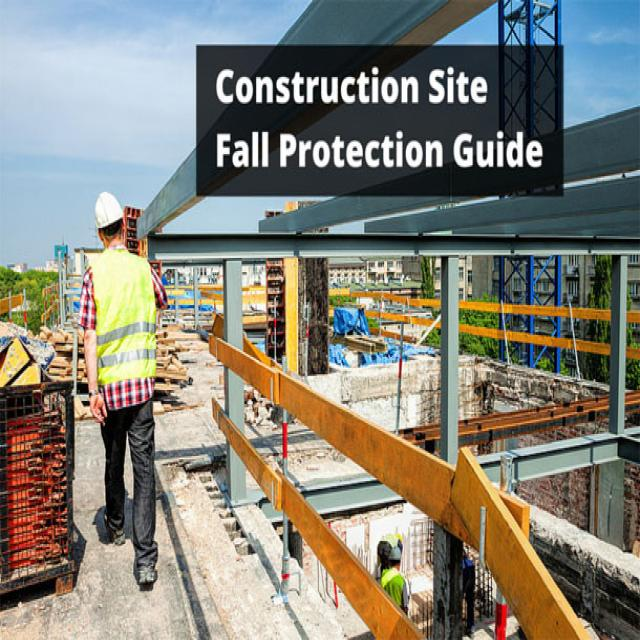cone: (207, 310, 597, 637)
